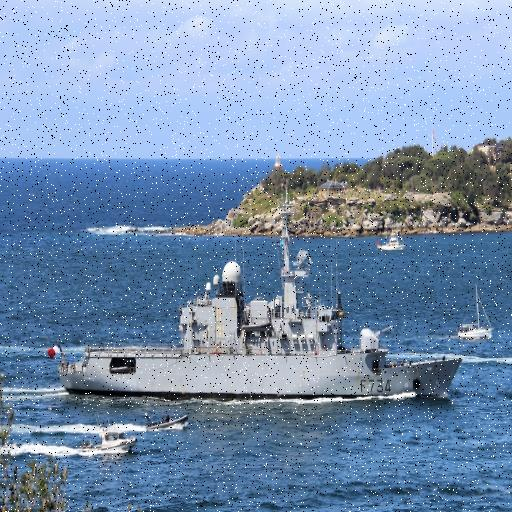Fragata: (51, 203, 464, 404)
